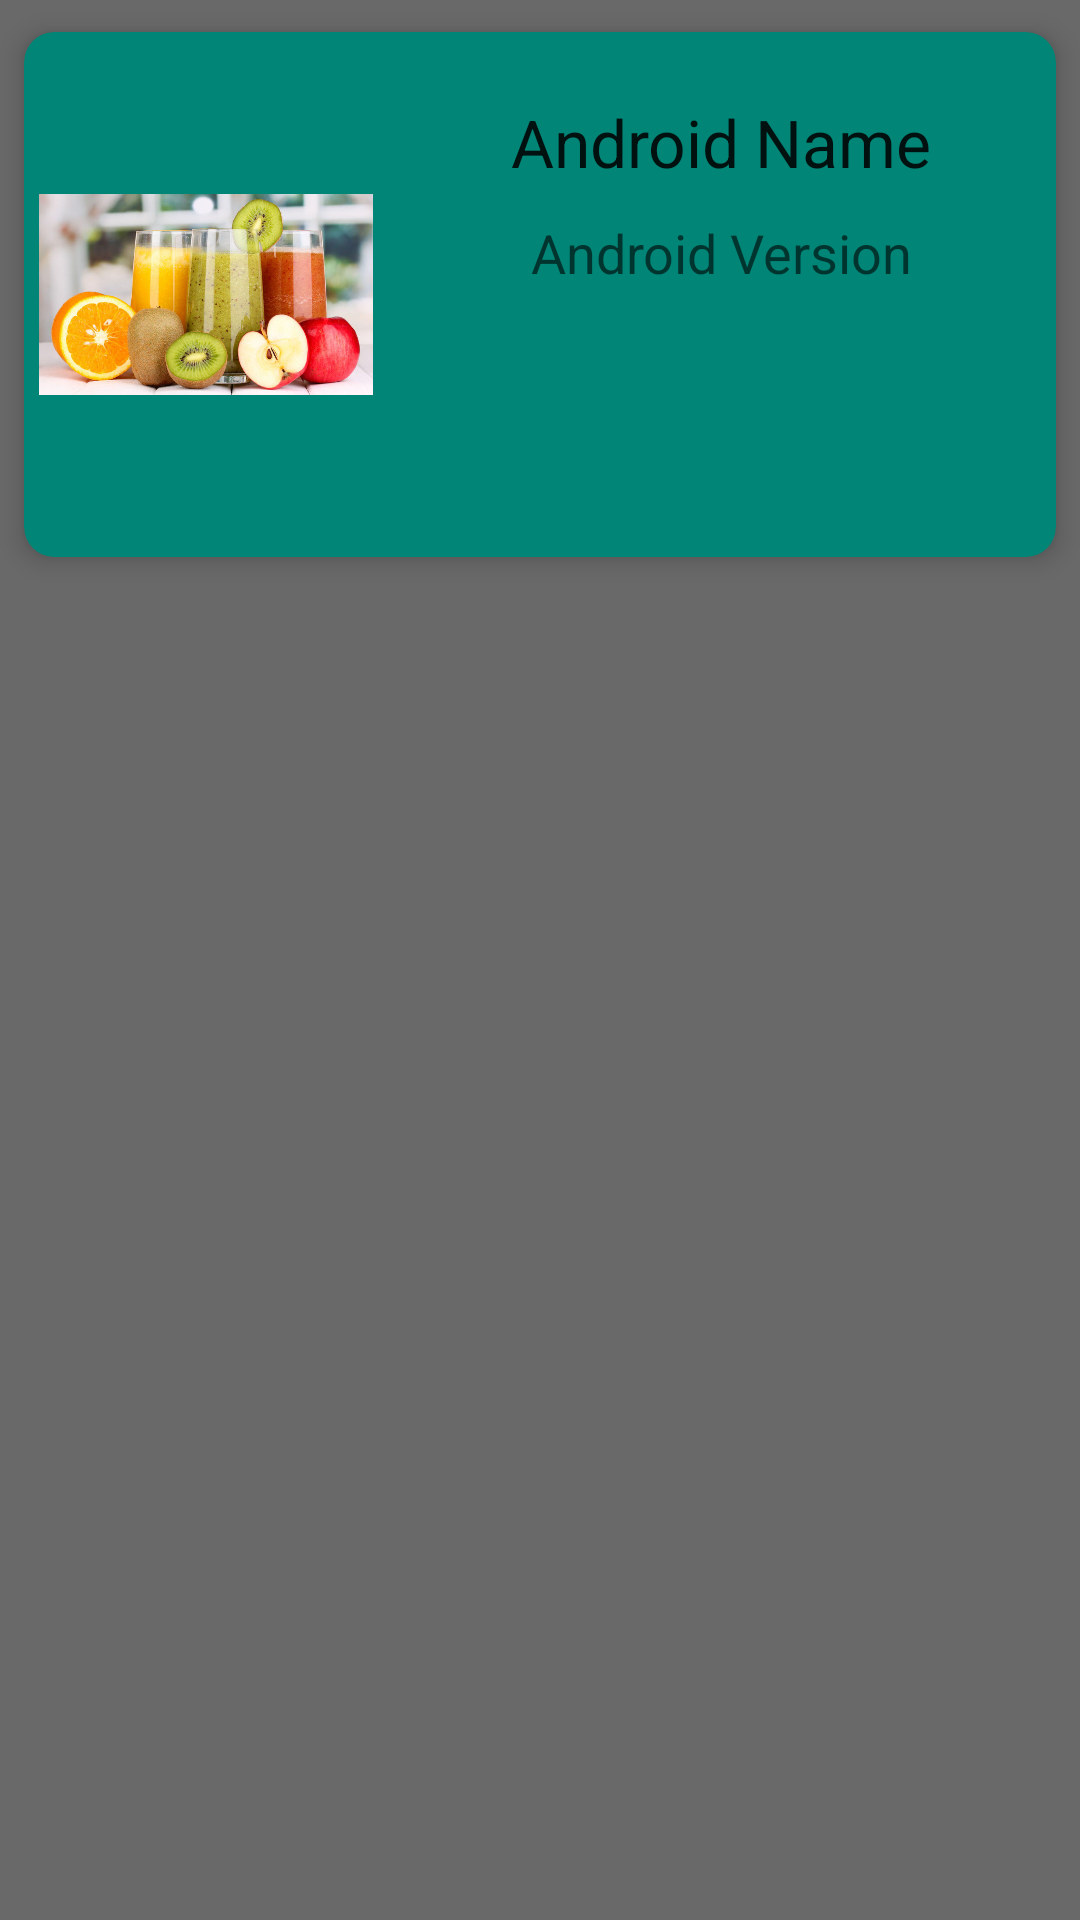

Where to tap for icons on this 1080w x 1920h app screen, as point (x, y):
juice: point (206, 294)
